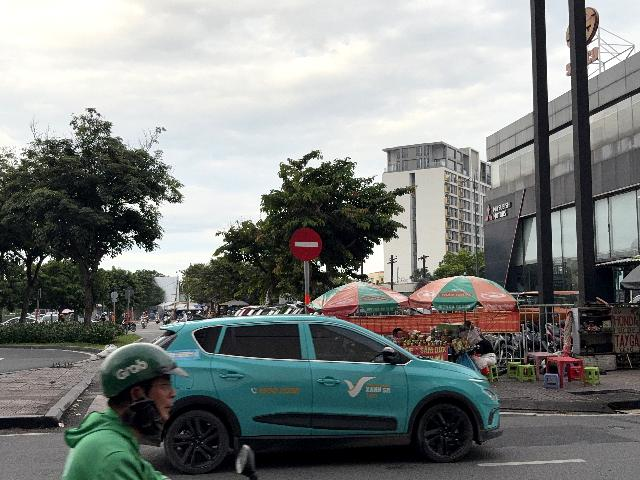cam-di-nguoc-chieu: (290, 227, 322, 261)
